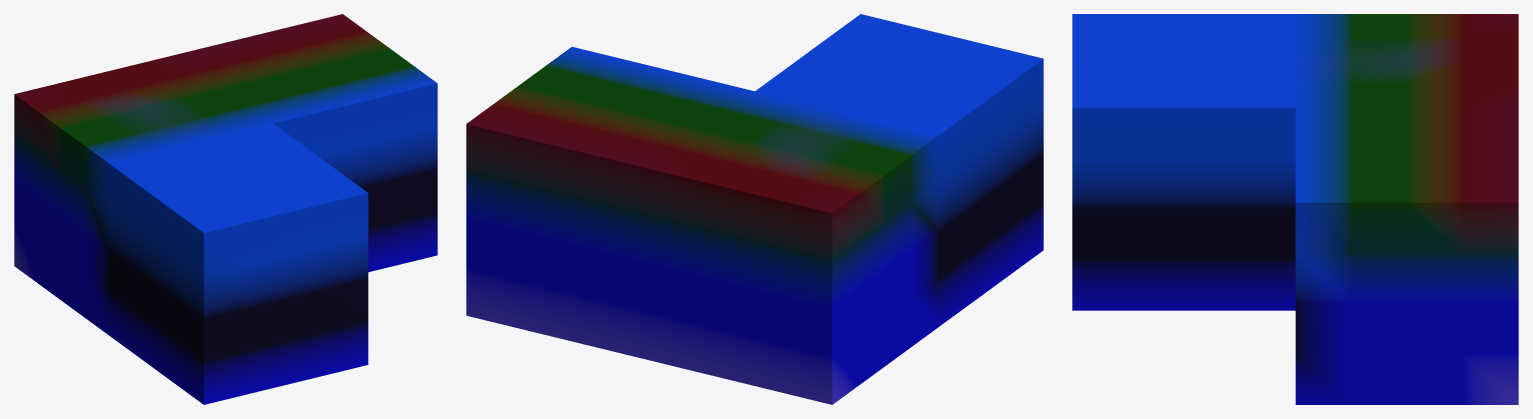
File: L_TypeObjtType4.gltf
3 views of the same model, side by side, from view 1: azimuth 30°, elevation 25°; view 2: azimuth 150°, elevation 25°; view 3: azimuth 270°, elevation 25° (orthographic). The views are drawn at different scales.
Visible parts, largest first — view 1: Cube.001; view 2: Cube.001; view 3: Cube.001.
Part boxes in pixels (x1,y1,x2,y2): Cube.001: (14,14,437,404); Cube.001: (466,14,1043,404); Cube.001: (1072,14,1518,404).
Bounding box in the file's own units: 7 × 3.5 × 7.
